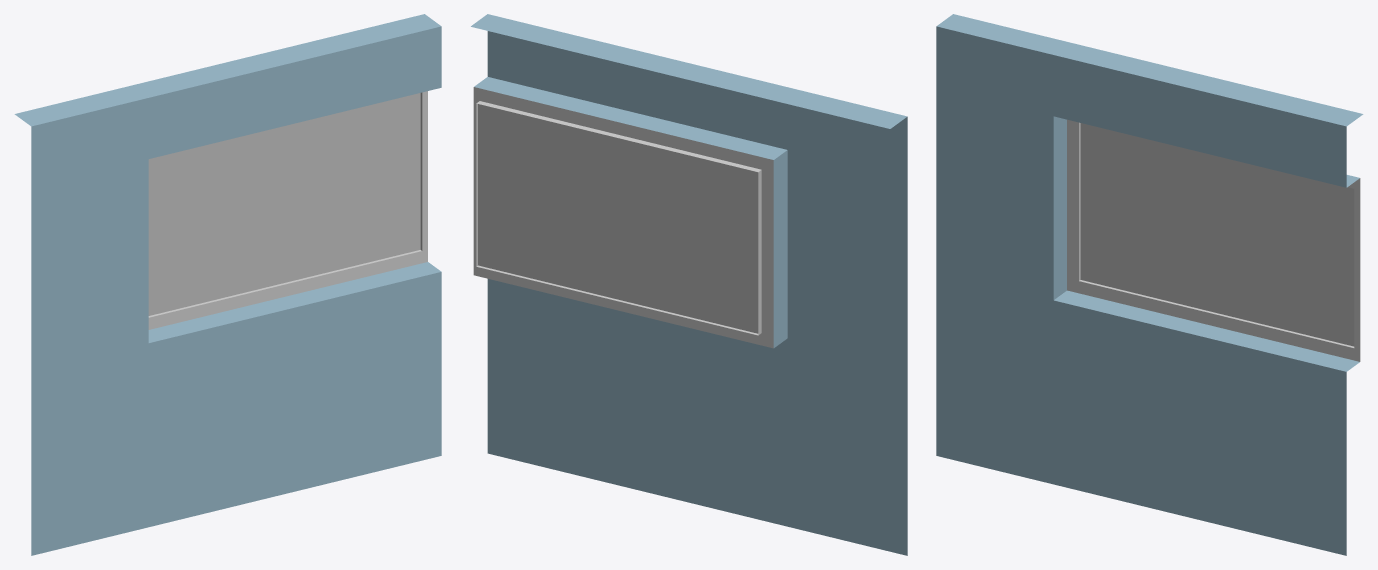
The model's file is M_WallWindow150Marine100.fbx.
The picture shows the model from 3 angles, left to right: view 1: azimuth 30°, elevation 25°; view 2: azimuth 150°, elevation 25°; view 3: azimuth 330°, elevation 25°; orthographic projection. The views are drawn at different scales.
Parts seen in each view (by area): view 1: M_WallWindow150Marine100; view 2: M_WallWindow150Marine100; view 3: M_WallWindow150Marine100.
Part boxes in pixels (x1,y1,x2,y2): M_WallWindow150Marine100: (14,14,441,555); M_WallWindow150Marine100: (471,14,907,555); M_WallWindow150Marine100: (936,14,1363,555).
Size of the model in its own units: 350 by 25 by 350.
